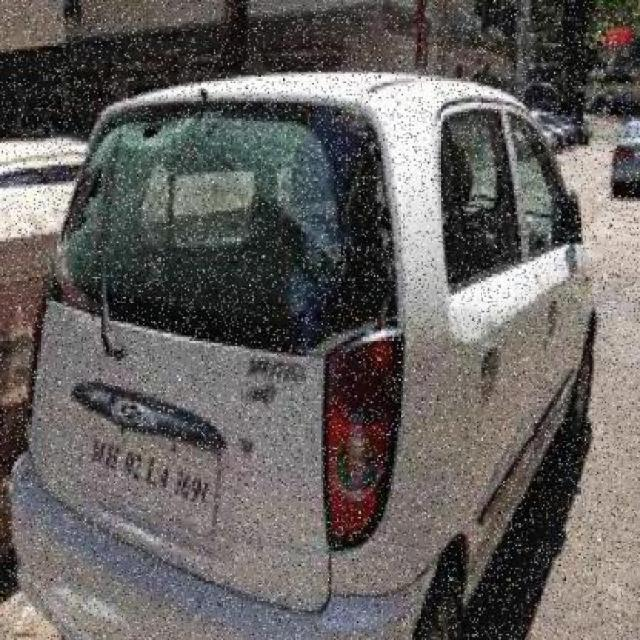Rear-windscreen-Damage: (37, 103, 415, 370)
